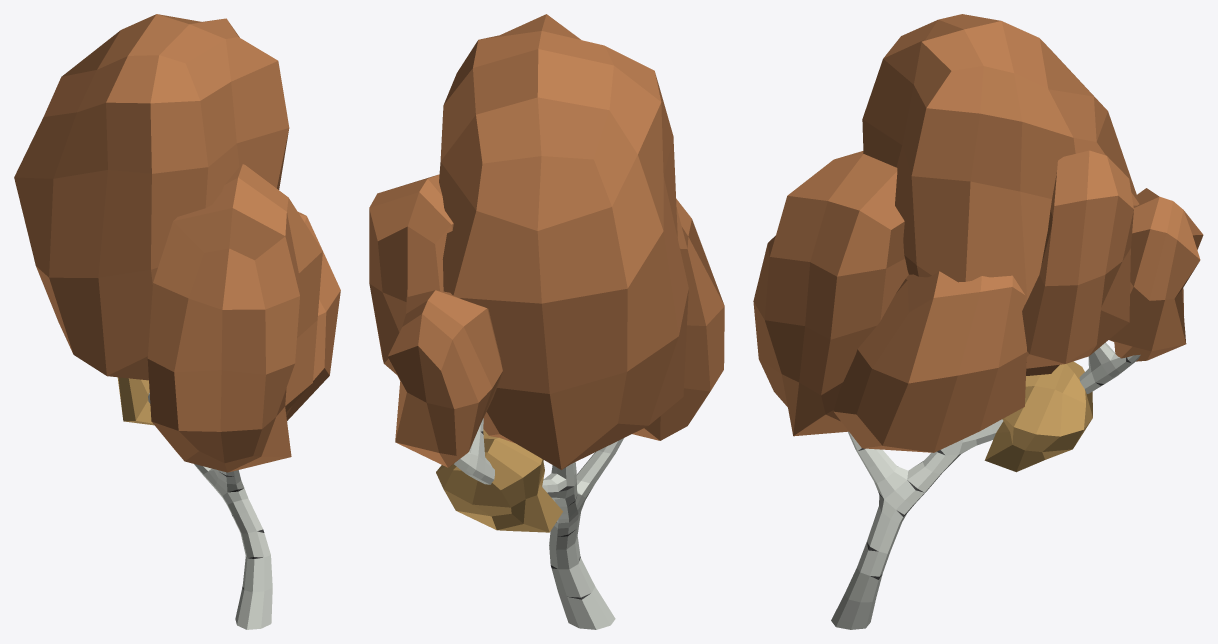
File: birchtree_autumn_1.glb
The picture shows the model from 3 angles, left to right: view 1: azimuth 30°, elevation 25°; view 2: azimuth 150°, elevation 25°; view 3: azimuth 270°, elevation 25°; orthographic projection. The views are drawn at different scales.
Visible parts, largest first — view 1: BirchTree_Autumn_1; view 2: BirchTree_Autumn_1; view 3: BirchTree_Autumn_1.
Boxes of the visible parts, x1,y1,x2,y2 form: BirchTree_Autumn_1: (14, 14, 340, 629); BirchTree_Autumn_1: (369, 14, 724, 629); BirchTree_Autumn_1: (753, 14, 1203, 629).
Bounding box in the file's own units: 4.08 × 8.58 × 5.95.
